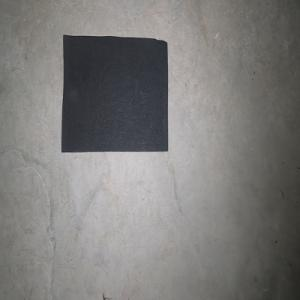PaintChip: (61, 34, 168, 152)
